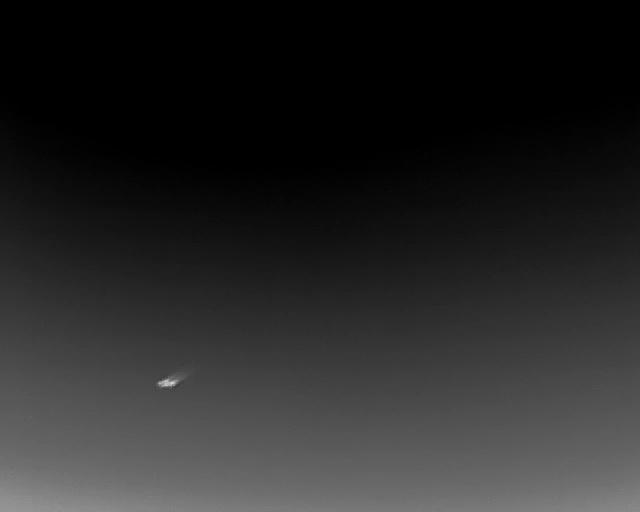fpv-drone: (155, 368, 192, 389)
